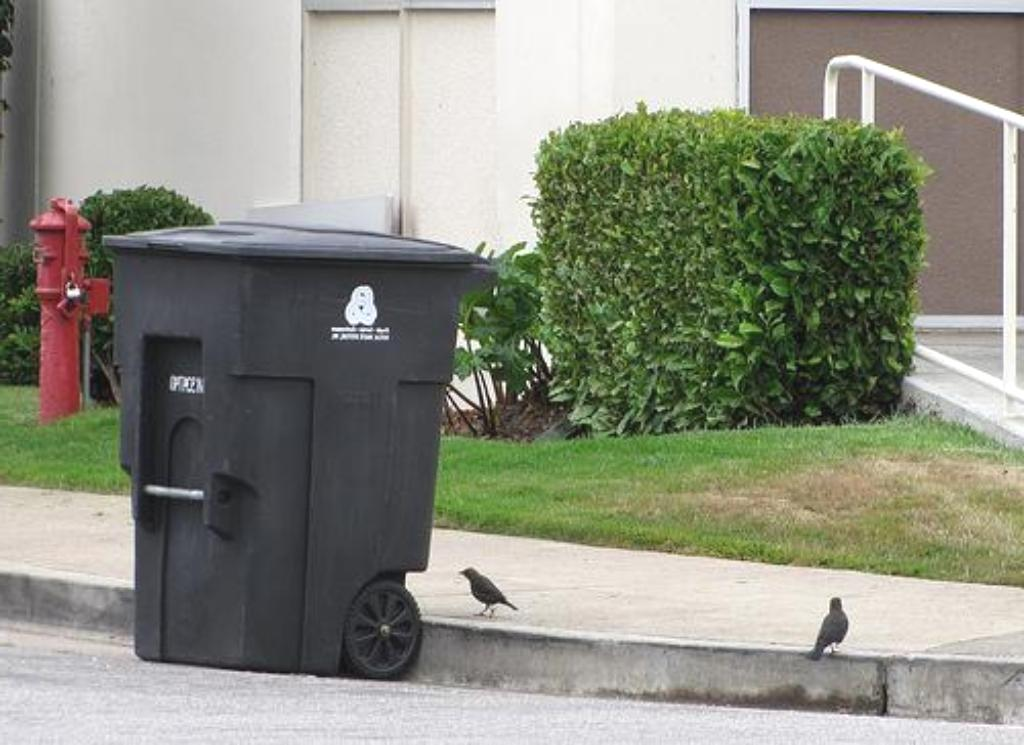dustbin: (87, 198, 502, 683)
